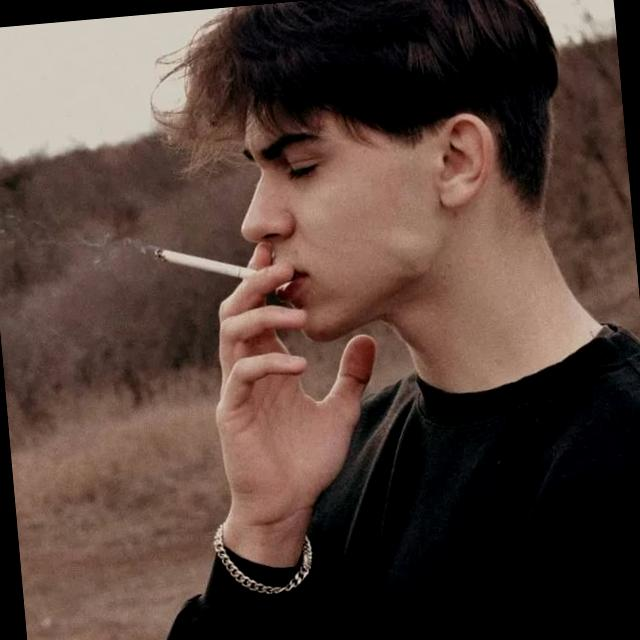cigarette: (152, 232, 268, 300)
